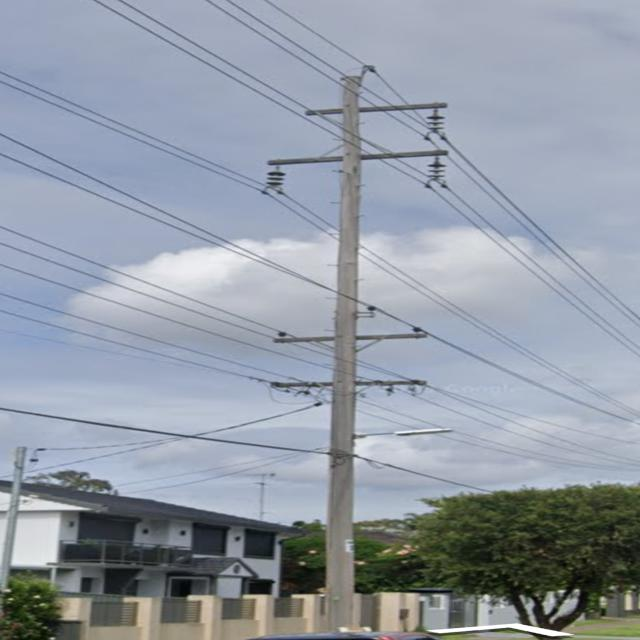HV-transmission: (261, 67, 446, 193)
crossarm: (267, 150, 448, 166), (306, 100, 452, 116), (273, 331, 425, 343), (271, 380, 425, 388)
timber-pole: (322, 77, 365, 631)
